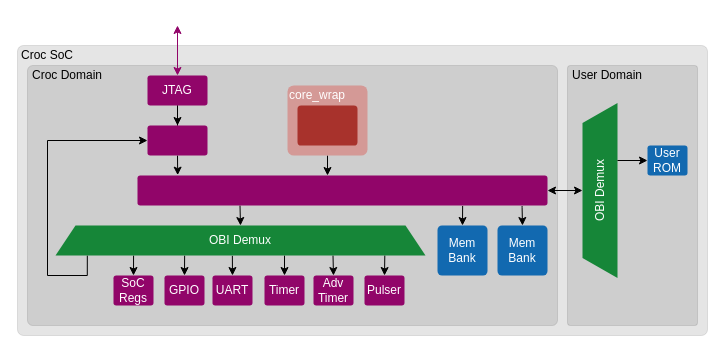
This 725x353 diagram has some shape labels left out. The centre of each missing label's shape, as x and y in pixels:
CVE2 (Ibex): the point at 327,125
Debug: the point at 177,140
OBI Crossbar: the point at 342,190
